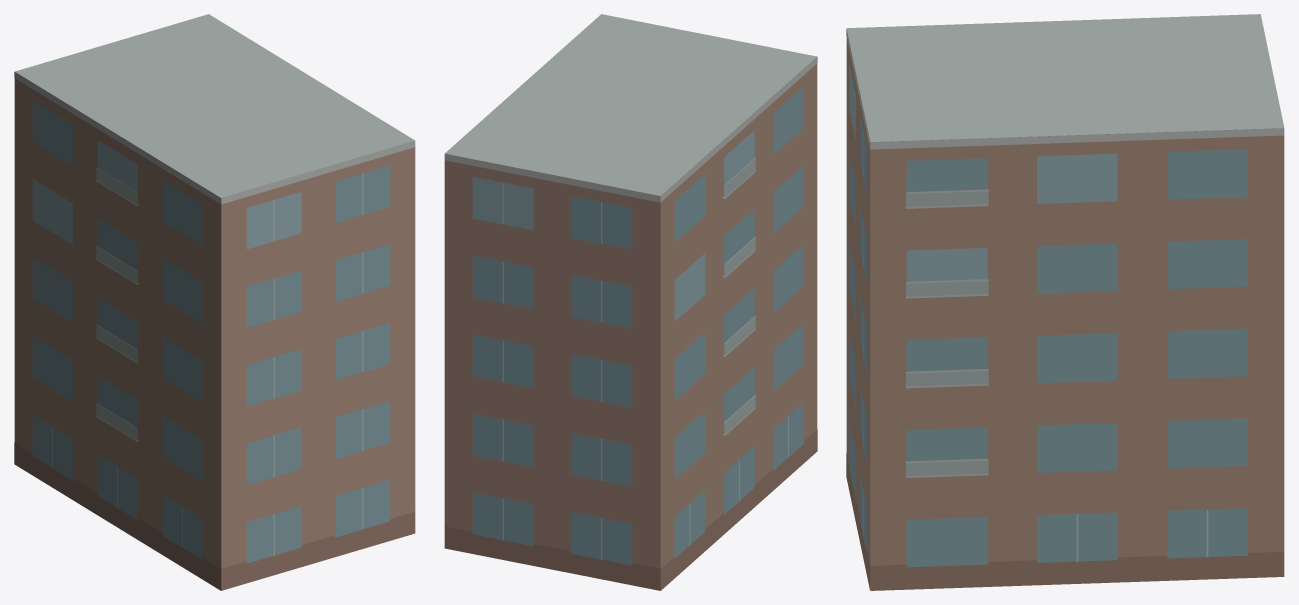
Rendered from survey-upis-32630573.glb.
3 views of the same model, side by side, from view 1: azimuth 30°, elevation 25°; view 2: azimuth 150°, elevation 25°; view 3: azimuth 270°, elevation 25° (orthographic). The views are drawn at different scales.
Visible parts, largest first — view 1: survey-upis-32630573.tmp; view 2: survey-upis-32630573.tmp; view 3: survey-upis-32630573.tmp.
Boxes of the visible parts, x1,y1,x2,y2 form: survey-upis-32630573.tmp: (14,14,415,590); survey-upis-32630573.tmp: (444,14,817,590); survey-upis-32630573.tmp: (846,14,1284,590).
Size of the model in its own units: 9.01 by 14.7 by 13.01.
